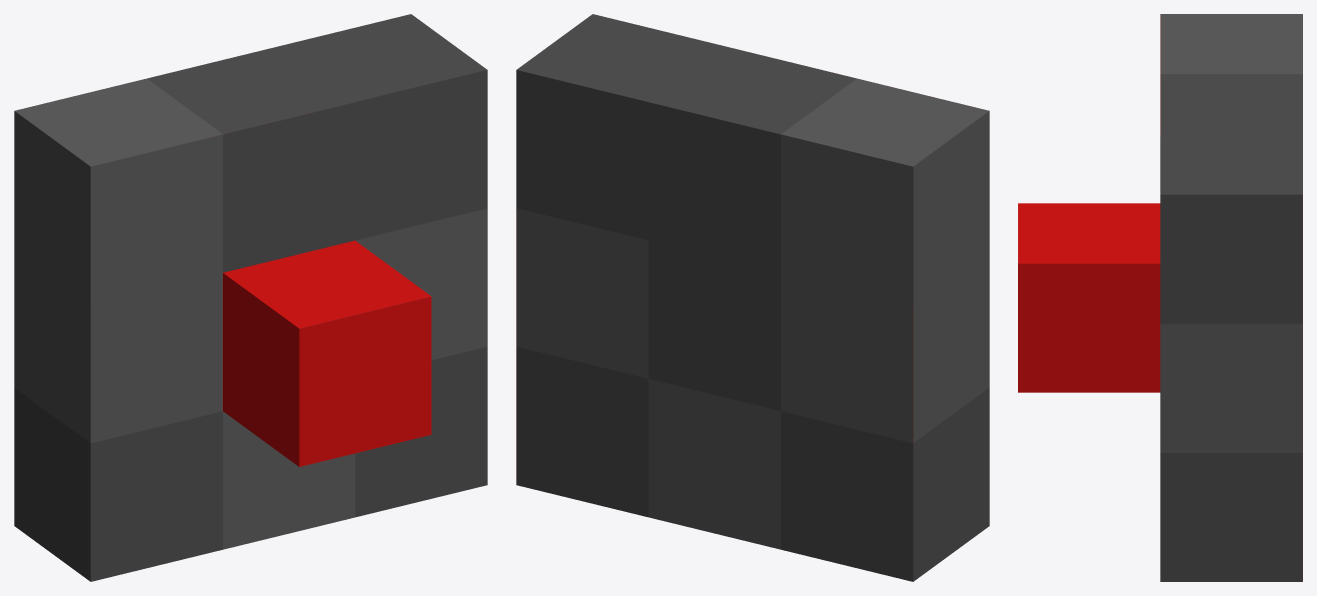
The model's file is Button_Wall_Small_Red.obj.
The picture shows the model from 3 angles, left to right: view 1: azimuth 30°, elevation 25°; view 2: azimuth 150°, elevation 25°; view 3: azimuth 270°, elevation 25°; orthographic projection. The views are drawn at different scales.
Visible parts, largest first — view 1: Button_Wall_Small_Red_Button_Wall_Small_Red.002; view 2: Button_Wall_Small_Red_Button_Wall_Small_Red.002; view 3: Button_Wall_Small_Red_Button_Wall_Small_Red.002.
Part boxes in pixels (left/top/right/bottom): Button_Wall_Small_Red_Button_Wall_Small_Red.002: left=14, top=14, right=487, bottom=581; Button_Wall_Small_Red_Button_Wall_Small_Red.002: left=516, top=14, right=989, bottom=581; Button_Wall_Small_Red_Button_Wall_Small_Red.002: left=1018, top=14, right=1302, bottom=581.
Bounding box in the file's own units: 0.3 × 0.3 × 0.2.
1 material, 1 textured.
